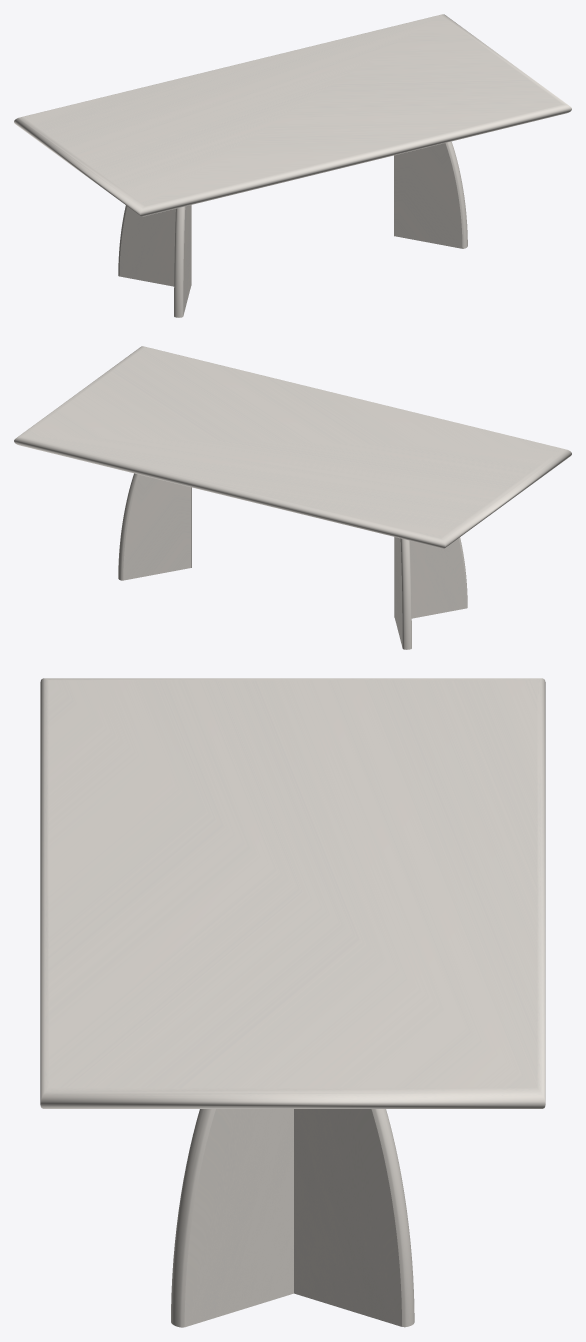
File: pearlwhite_recta_round_newtable2.glb
The picture shows the model from 3 angles, top to bottom: view 1: azimuth 30°, elevation 25°; view 2: azimuth 150°, elevation 25°; view 3: azimuth 270°, elevation 25°; orthographic projection. The views are drawn at different scales.
Parts seen in each view (by area): view 1: round_recta, newtable2_singleright2, newtable2_singleleft1, newtable2_singleright1; view 2: round_recta, newtable2_singleleft2, newtable2_singleright1, newtable2_singleleft1; view 3: round_recta, newtable2_singleright2, newtable2_singleleft2.
Part boxes in pixels (x1=…): round_recta: x1=14, y1=14, x2=571, y2=216; newtable2_singleright2: x1=394, y1=141, x2=467, y2=248; newtable2_singleleft1: x1=118, y1=205, x2=191, y2=286; newtable2_singleright1: x1=174, y1=205, x2=191, y2=317; round_recta: x1=14, y1=346, x2=571, y2=548; newtable2_singleleft2: x1=118, y1=473, x2=191, y2=580; newtable2_singleright1: x1=394, y1=537, x2=467, y2=618; newtable2_singleleft1: x1=394, y1=537, x2=411, y2=649; round_recta: x1=40, y1=678, x2=545, y2=1108; newtable2_singleright2: x1=171, y1=1109, x2=293, y2=1327; newtable2_singleleft2: x1=294, y1=1109, x2=414, y2=1327.
Bounding box in the file's own units: 7.5 × 2.49 × 3.8.
1 material, 1 textured.
